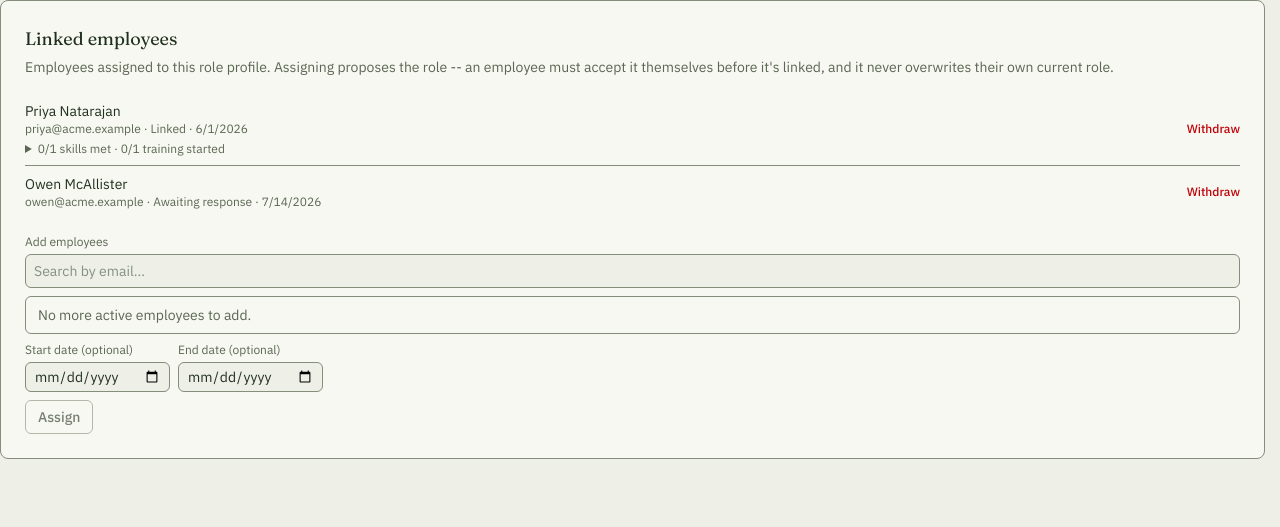
Test case: RoleProfileLinkedEmployeesPanel › shows unshared skills and unassigned training distinctly from a pending employee with no readiness at all
What coordinates should you click on to do the following:
click the heading "0/1 skills met · 0/1 training started"
I would click on:
 (131, 148)
Its box is x1=38 y1=141 x2=225 y2=156.
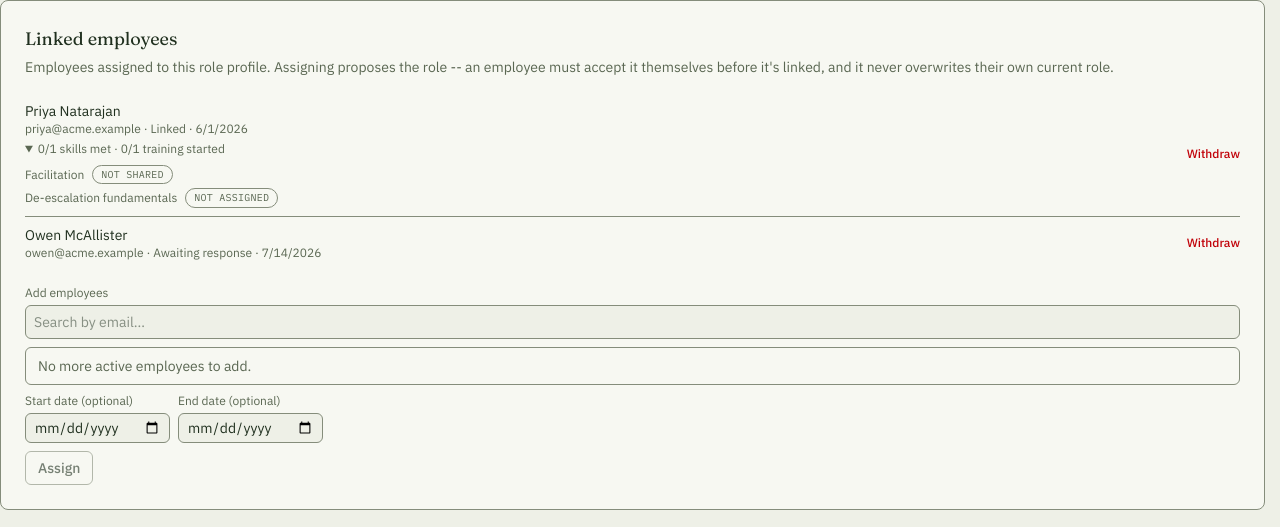
Now the text "Not shared" is shown, box x1=92 y1=165 x2=173 y2=184
Now the text "Not assigned" is shown, box x1=185 y1=188 x2=278 y2=208
